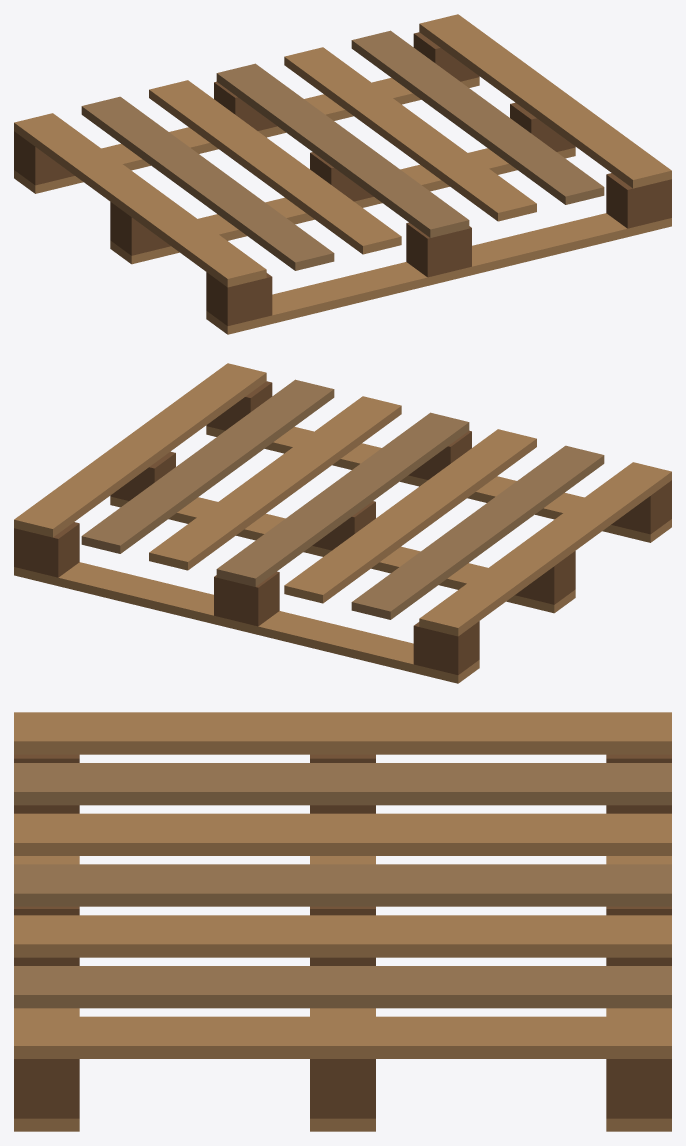
File: pallet.glb
3 views of the same model, one above another, from view 1: azimuth 30°, elevation 25°; view 2: azimuth 150°, elevation 25°; view 3: azimuth 270°, elevation 25° (orthographic). The views are drawn at different scales.
Parts seen in each view (by area): view 1: pallet; view 2: pallet; view 3: pallet.
Boxes of the visible parts, left/top/right/bottom form: pallet: left=14, top=14, right=671, bottom=334; pallet: left=14, top=363, right=671, bottom=683; pallet: left=14, top=712, right=671, bottom=1131.
Size of the model in its own units: 1.2 by 0.144 by 1.
